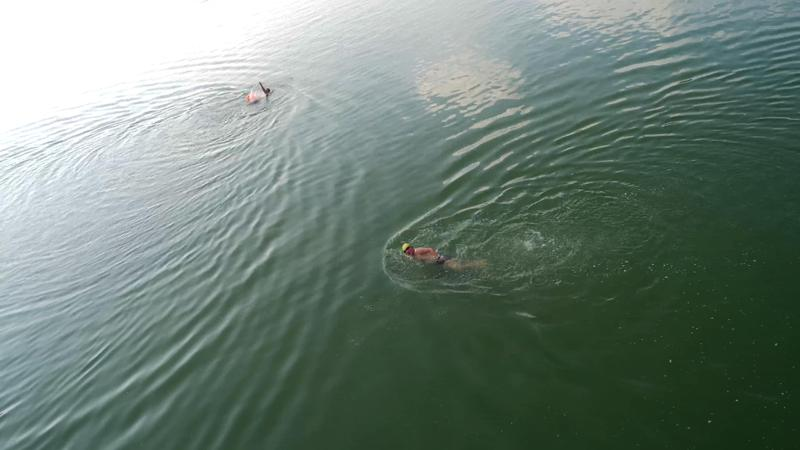swimmers: (400, 241, 487, 274)
